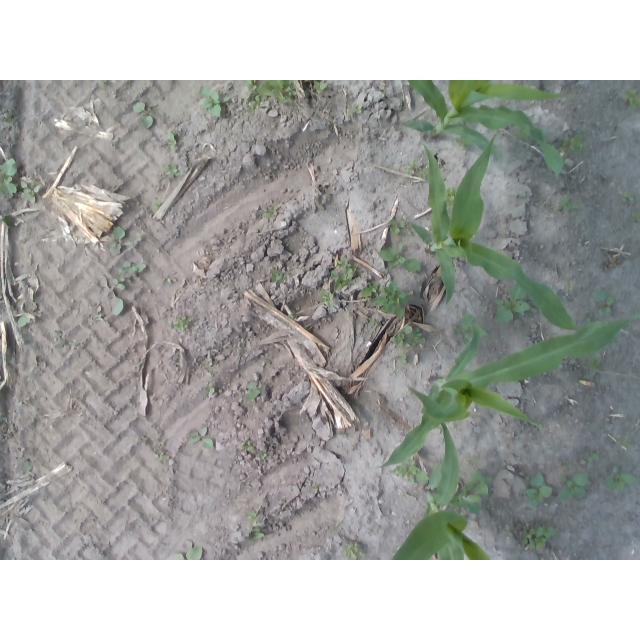Maize: (411, 133, 602, 375), (374, 313, 640, 468), (403, 80, 568, 178), (386, 424, 491, 561)
Weeds: (448, 470, 492, 517), (244, 80, 296, 113), (370, 281, 411, 319), (494, 285, 532, 324), (96, 274, 126, 320), (378, 243, 422, 274), (519, 521, 557, 551), (453, 312, 488, 344), (523, 473, 554, 507), (391, 459, 430, 486), (200, 87, 231, 118), (330, 259, 360, 291), (606, 465, 639, 492), (390, 325, 427, 349), (105, 227, 134, 257), (557, 472, 587, 501), (0, 158, 18, 198), (186, 427, 214, 450), (133, 102, 155, 128), (165, 546, 204, 560), (594, 289, 614, 315), (562, 132, 585, 154), (389, 216, 412, 237), (407, 159, 430, 180), (342, 541, 367, 560), (20, 181, 40, 204), (555, 194, 582, 211), (622, 87, 640, 109), (581, 355, 603, 373), (118, 262, 147, 275), (162, 164, 182, 181), (169, 317, 191, 332), (245, 382, 260, 402), (268, 267, 286, 283), (320, 290, 335, 309), (445, 186, 459, 206), (360, 283, 379, 297), (516, 131, 533, 146), (619, 435, 634, 452), (245, 528, 264, 541), (245, 510, 259, 527), (166, 131, 178, 150), (313, 81, 328, 96), (239, 440, 255, 452), (151, 451, 169, 461), (17, 315, 32, 327), (265, 204, 277, 218), (503, 524, 514, 539), (347, 105, 363, 115), (2, 112, 15, 124), (585, 451, 600, 461), (622, 192, 635, 203), (22, 462, 32, 473), (584, 312, 593, 324), (205, 386, 216, 395), (400, 352, 408, 364), (566, 280, 574, 292), (631, 213, 640, 223), (260, 450, 268, 459), (371, 320, 381, 327), (155, 202, 162, 210), (100, 80, 107, 85)
